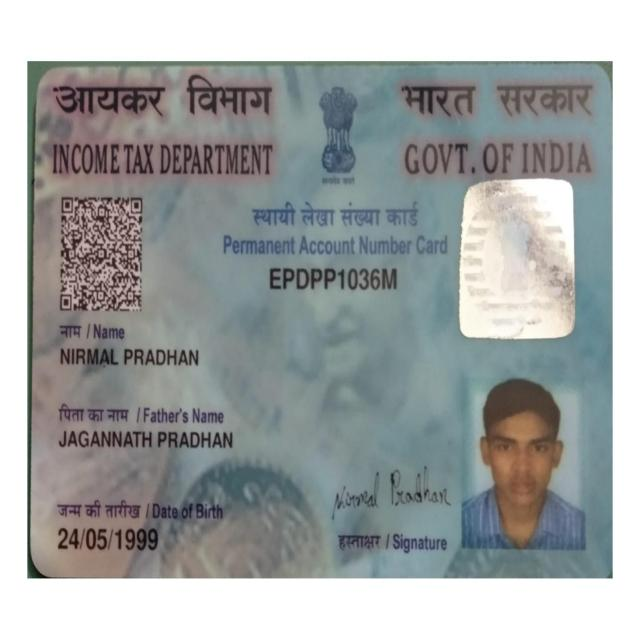pan_card: (36, 69, 610, 571)
